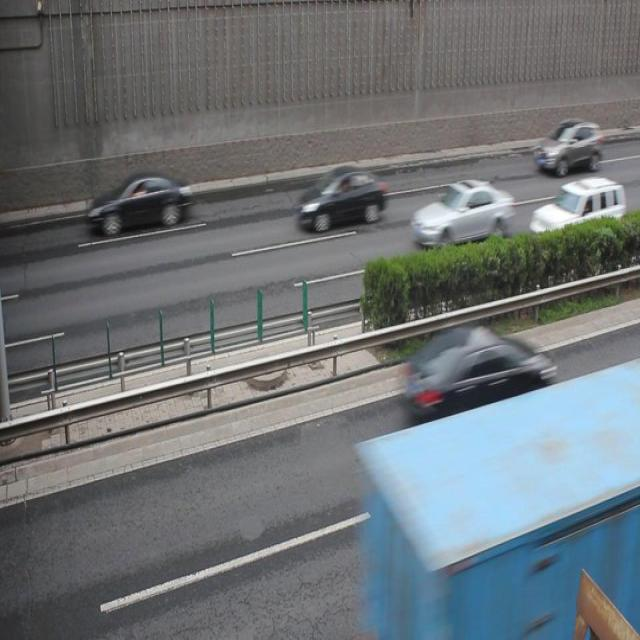bus: (350, 365, 640, 640)
car: (404, 324, 556, 425), (411, 179, 514, 248), (88, 168, 191, 234), (299, 168, 388, 228), (535, 117, 604, 175)
truck: (528, 173, 622, 244)
